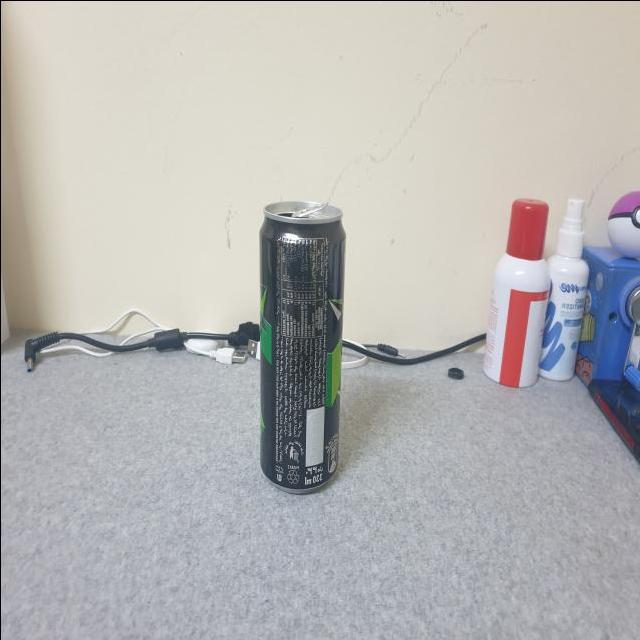can: (258, 198, 345, 488)
